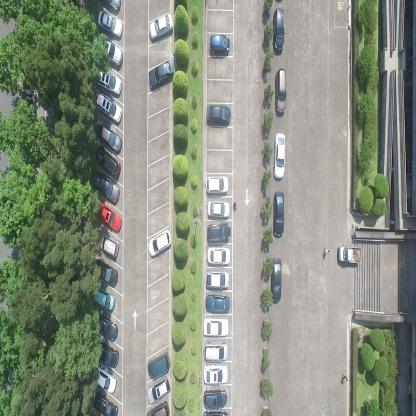car: (95, 90, 123, 126), (92, 169, 119, 204), (147, 58, 175, 91), (95, 120, 122, 154), (94, 145, 120, 179), (96, 199, 122, 233), (97, 36, 123, 69), (94, 66, 122, 95), (148, 11, 173, 43), (97, 10, 123, 40), (93, 257, 119, 287), (146, 352, 171, 382), (146, 375, 171, 405), (148, 228, 171, 260), (93, 312, 118, 341), (96, 230, 120, 259), (96, 340, 120, 368), (96, 365, 118, 395), (93, 284, 116, 312), (206, 103, 232, 127), (272, 189, 284, 240), (272, 7, 285, 53), (274, 67, 286, 116), (274, 132, 286, 180), (93, 392, 118, 415), (206, 222, 232, 244), (270, 258, 282, 305), (337, 244, 362, 266), (205, 294, 231, 314), (203, 318, 229, 338), (203, 364, 229, 384), (204, 341, 228, 362), (206, 200, 231, 220), (209, 34, 230, 57), (206, 174, 230, 194), (207, 247, 231, 267), (202, 388, 226, 408), (205, 271, 231, 289), (147, 400, 170, 416), (99, 0, 122, 14)
